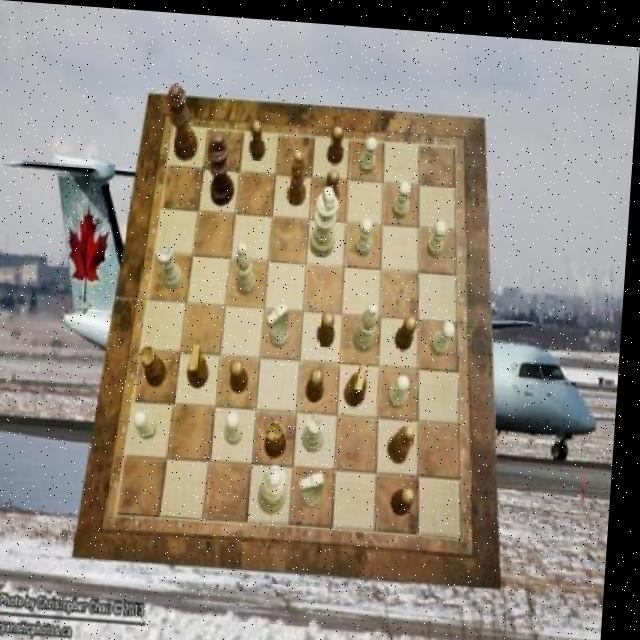bishop: (289, 147, 311, 202), (393, 418, 421, 460)
black-bishop: (206, 129, 239, 204)
black-king: (349, 357, 374, 401), (191, 342, 214, 385)
black-knight: (399, 309, 422, 346), (330, 121, 349, 161), (396, 482, 422, 511), (324, 164, 343, 203), (234, 356, 255, 391), (251, 117, 269, 157), (322, 307, 341, 343), (311, 363, 330, 398)
black-pawn: (166, 81, 204, 157)
black-queen: (144, 344, 173, 385), (269, 416, 294, 455)
black-rook: (238, 238, 263, 293), (357, 297, 383, 348)
white-bishop: (312, 180, 343, 253)
white-king: (270, 298, 296, 345), (306, 465, 331, 503)
white-knight: (434, 312, 460, 350), (357, 212, 377, 252), (394, 367, 416, 403), (430, 214, 451, 251), (395, 174, 414, 214), (360, 131, 380, 169), (138, 408, 164, 437), (230, 409, 251, 444)
white-pawn: (265, 460, 295, 511)
white-queen: (159, 241, 189, 288), (307, 407, 331, 448)
